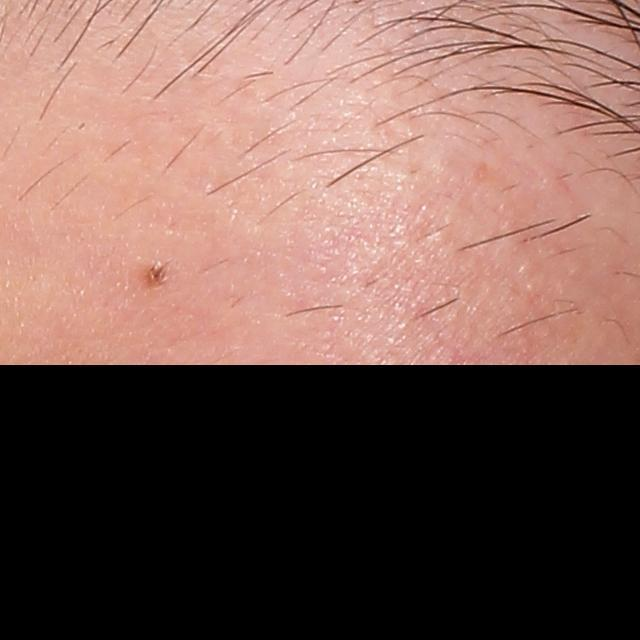nevus: (141, 257, 167, 289)
